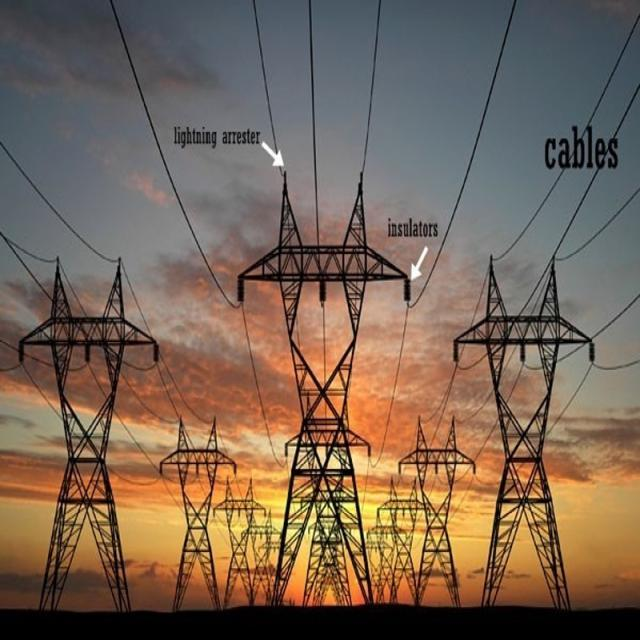non-critical vegetation: (238, 162, 398, 604), (453, 239, 584, 617), (17, 246, 150, 614), (399, 417, 467, 610), (152, 414, 219, 606), (214, 478, 260, 608), (376, 481, 422, 607)
